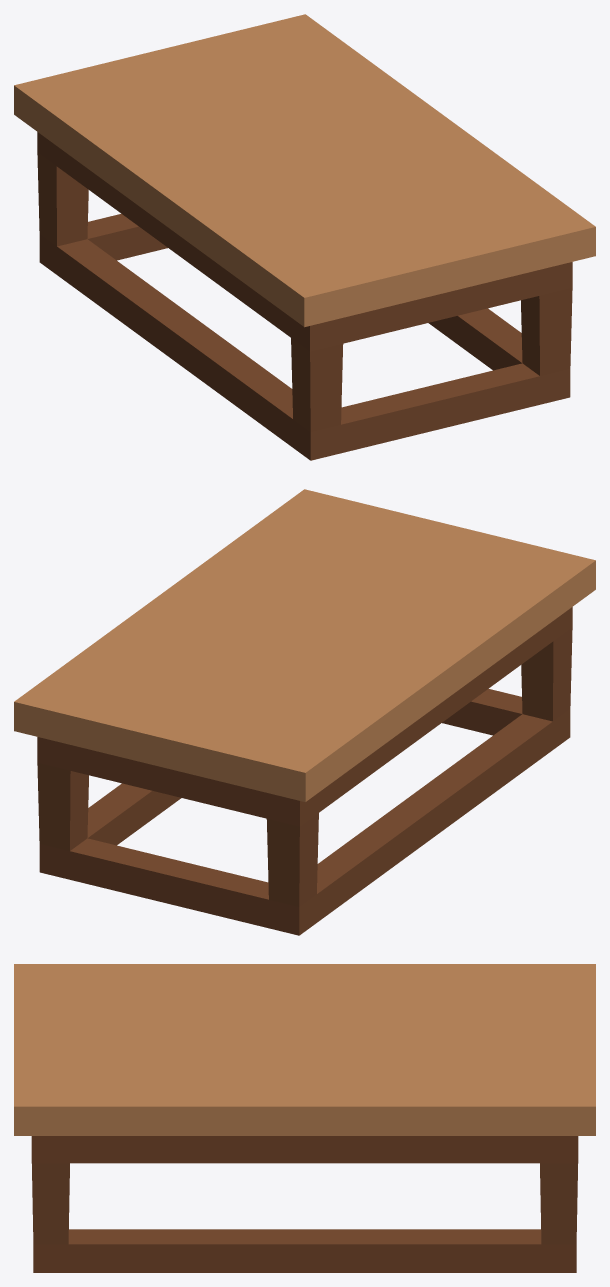
The model's file is CoffeeTable2.glb.
3 renders of one model, top to bottom at view 1: azimuth 30°, elevation 25°; view 2: azimuth 150°, elevation 25°; view 3: azimuth 270°, elevation 25°, orthographic.
Size of the model in its own units: 0.5889 by 0.3354 by 1.02.
